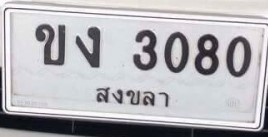txt02: (34, 22, 68, 66)
txt05: (74, 25, 102, 69)
